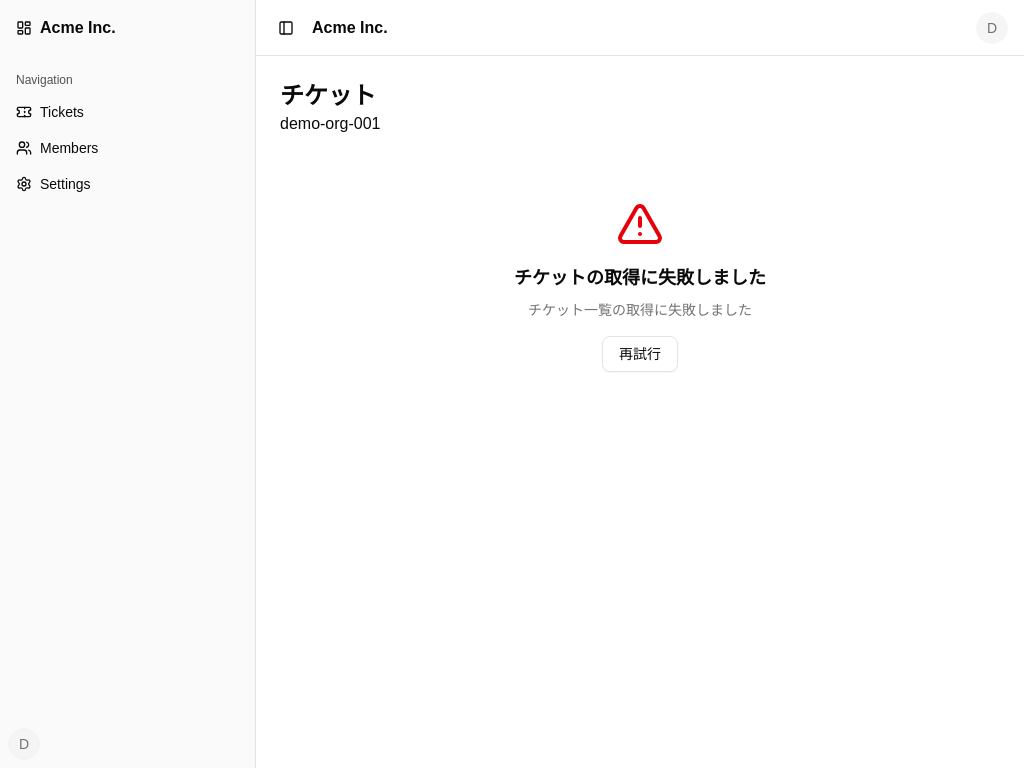
Test: OrganizationTicketsPage › エラー時に再試行ボタンでデータを再取得する
The width and height of the screenshot is (1024, 768).
expect the message "チケットの取得に失敗しました チケット一覧の取得に失敗しました 再試行" is shown: met, box x1=514 y1=200 x2=766 y2=372
Click the button "再試行": (640, 354) x1=602 y1=336 x2=678 y2=372
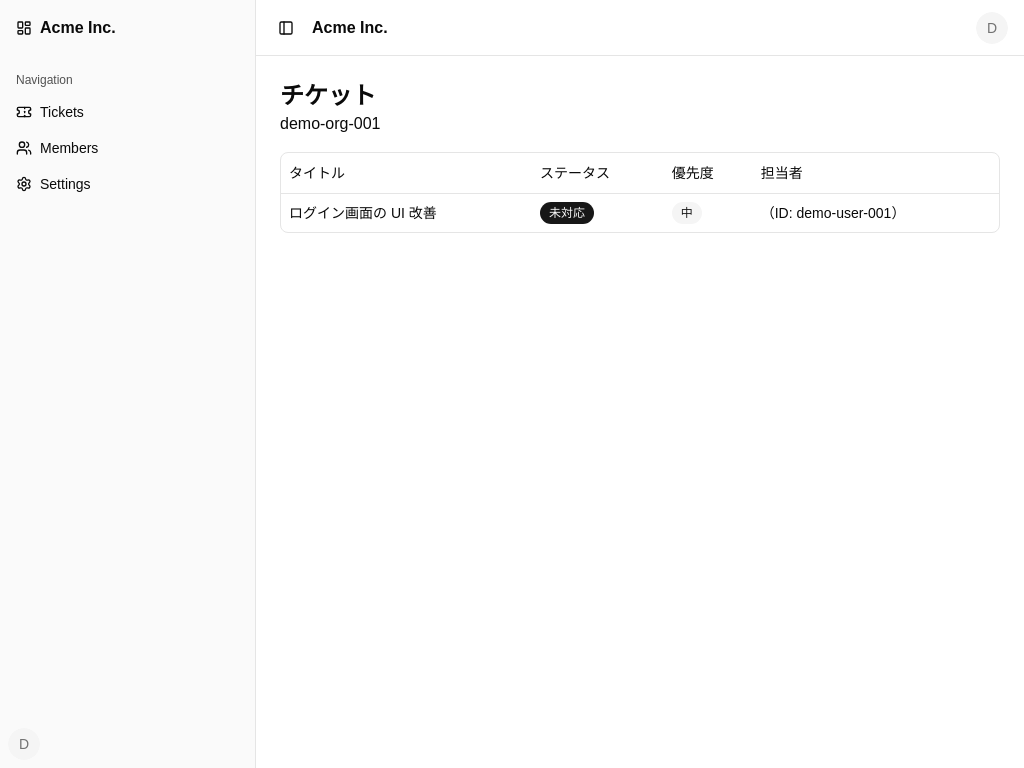
expect the table is shown: met, box x1=281 y1=153 x2=999 y2=232
expect the link "ログイン画面の UI 改善" is shown: met, box x1=289 y1=204 x2=437 y2=220
